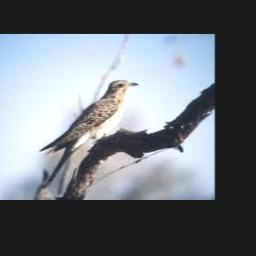Cuckoo: (39, 80, 138, 188)
